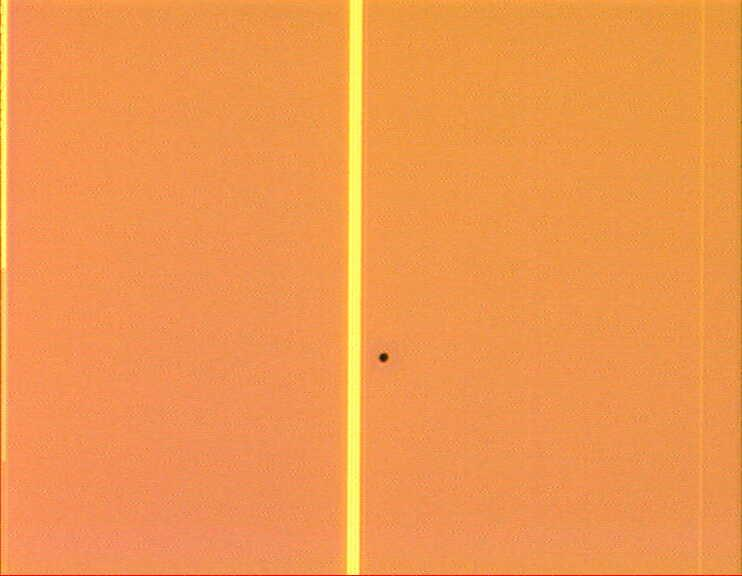PIQ PARTICLE: (374, 348, 394, 368)
